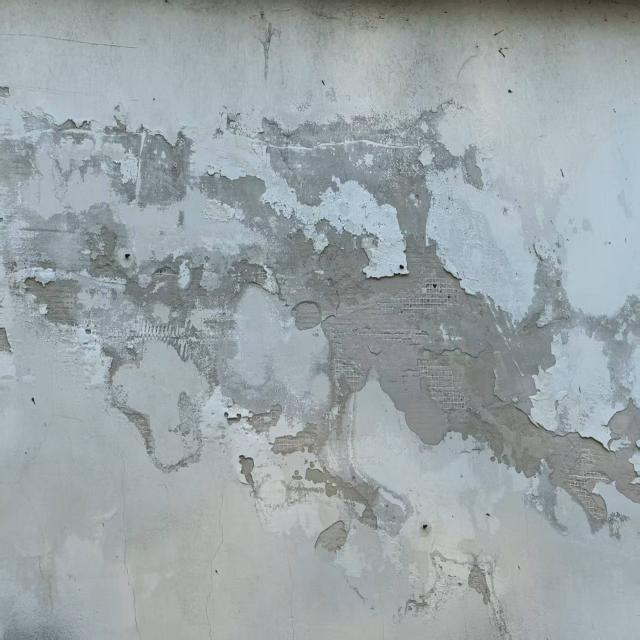spalling: (4, 69, 634, 631)
